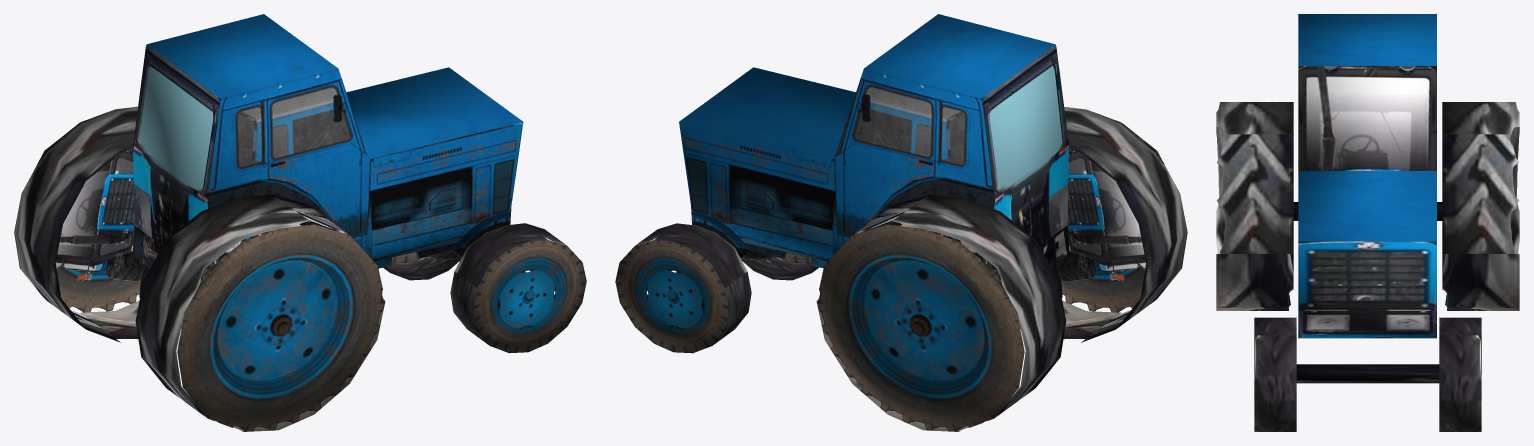
File: tractor.fbx
3 renders of one model, left to right at view 1: azimuth 30°, elevation 25°; view 2: azimuth 150°, elevation 25°; view 3: azimuth 270°, elevation 25°, orthographic. The views are drawn at different scales.
Parts seen in each view (by area): view 1: Cube; view 2: Cube; view 3: Cube.
Boxes of the visible parts, x1,y1,x2,y2 form: Cube: [14, 14, 586, 431]; Cube: [615, 14, 1187, 431]; Cube: [1216, 14, 1519, 431].
Size of the model in its own units: 338 by 231 by 222.
